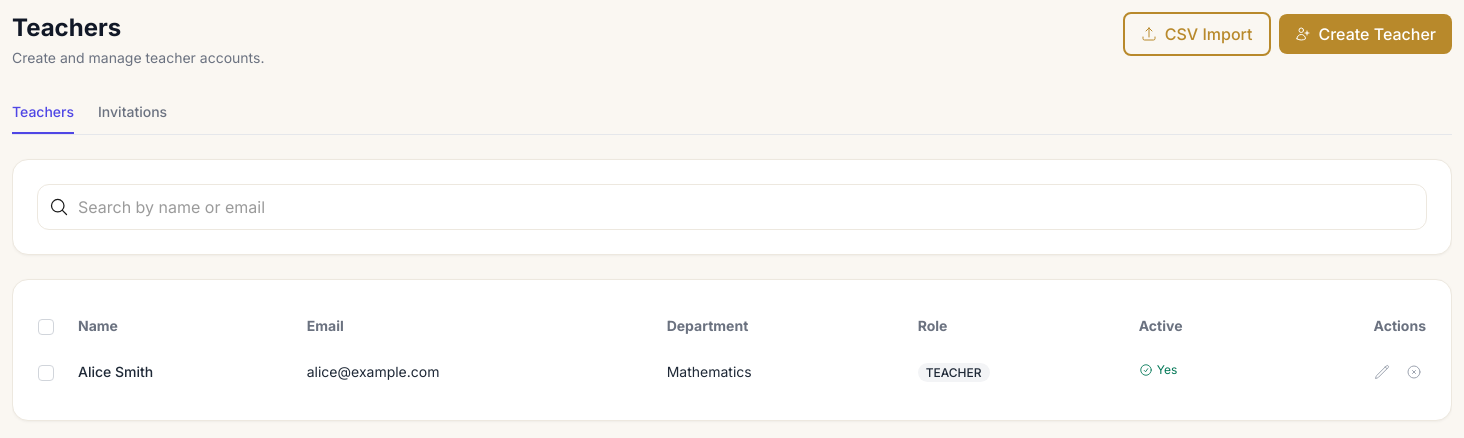
Test case: TeachersPage › invitations tab › renders invitation rows with email, name, and status badge
Click the button "Invitations" at x=133, y=113, box [98,92,167,134]
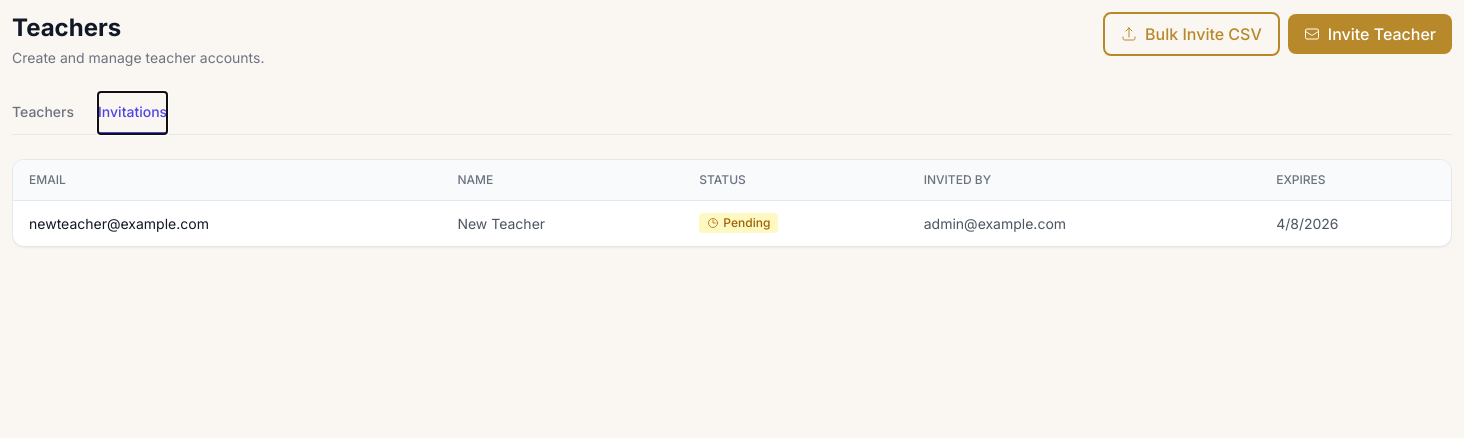
Expected: the text "newteacher@example.com" is shown, [13,200,441,246]
Expected: the text "New Teacher" is shown, [441,200,683,246]
Expected: the text "Pending" is shown, [699,213,778,233]
